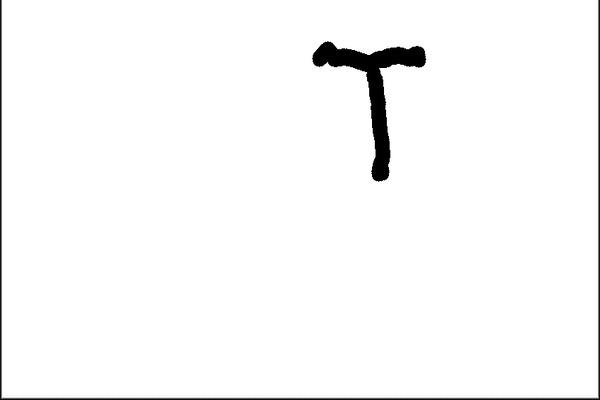T: (310, 33, 432, 185)
